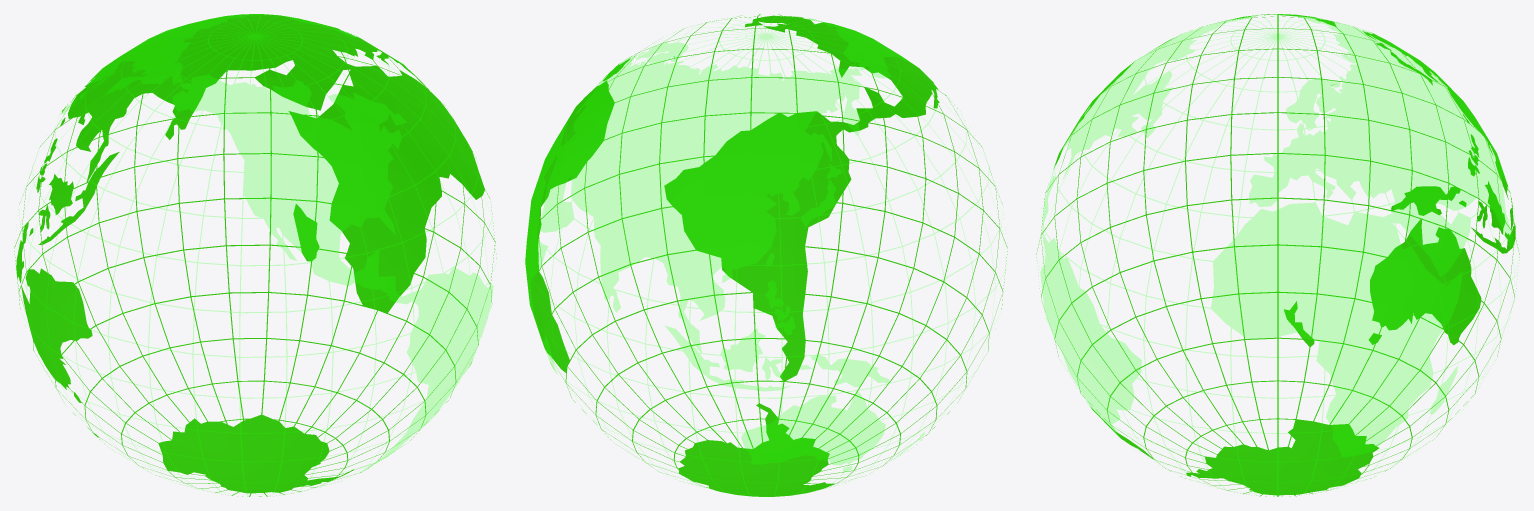
The model's file is Earth Hologram.gltf.
3 renders of one model, left to right at view 1: azimuth 30°, elevation 25°; view 2: azimuth 150°, elevation 25°; view 3: azimuth 270°, elevation 25°, orthographic.
Parts seen in each view (by area): view 1: Sphere.002, Sphere.001; view 2: Sphere.001, Sphere.002; view 3: Sphere.001, Sphere.002.
Part boxes in pixels (x1,y1,x2,y2): Sphere.002: (14,14,496,496); Sphere.001: (20,14,493,496); Sphere.001: (525,14,1002,496); Sphere.002: (525,14,1007,496); Sphere.001: (1040,14,1513,496); Sphere.002: (1036,14,1519,496).
Size of the model in its own units: 2 by 2 by 2.
